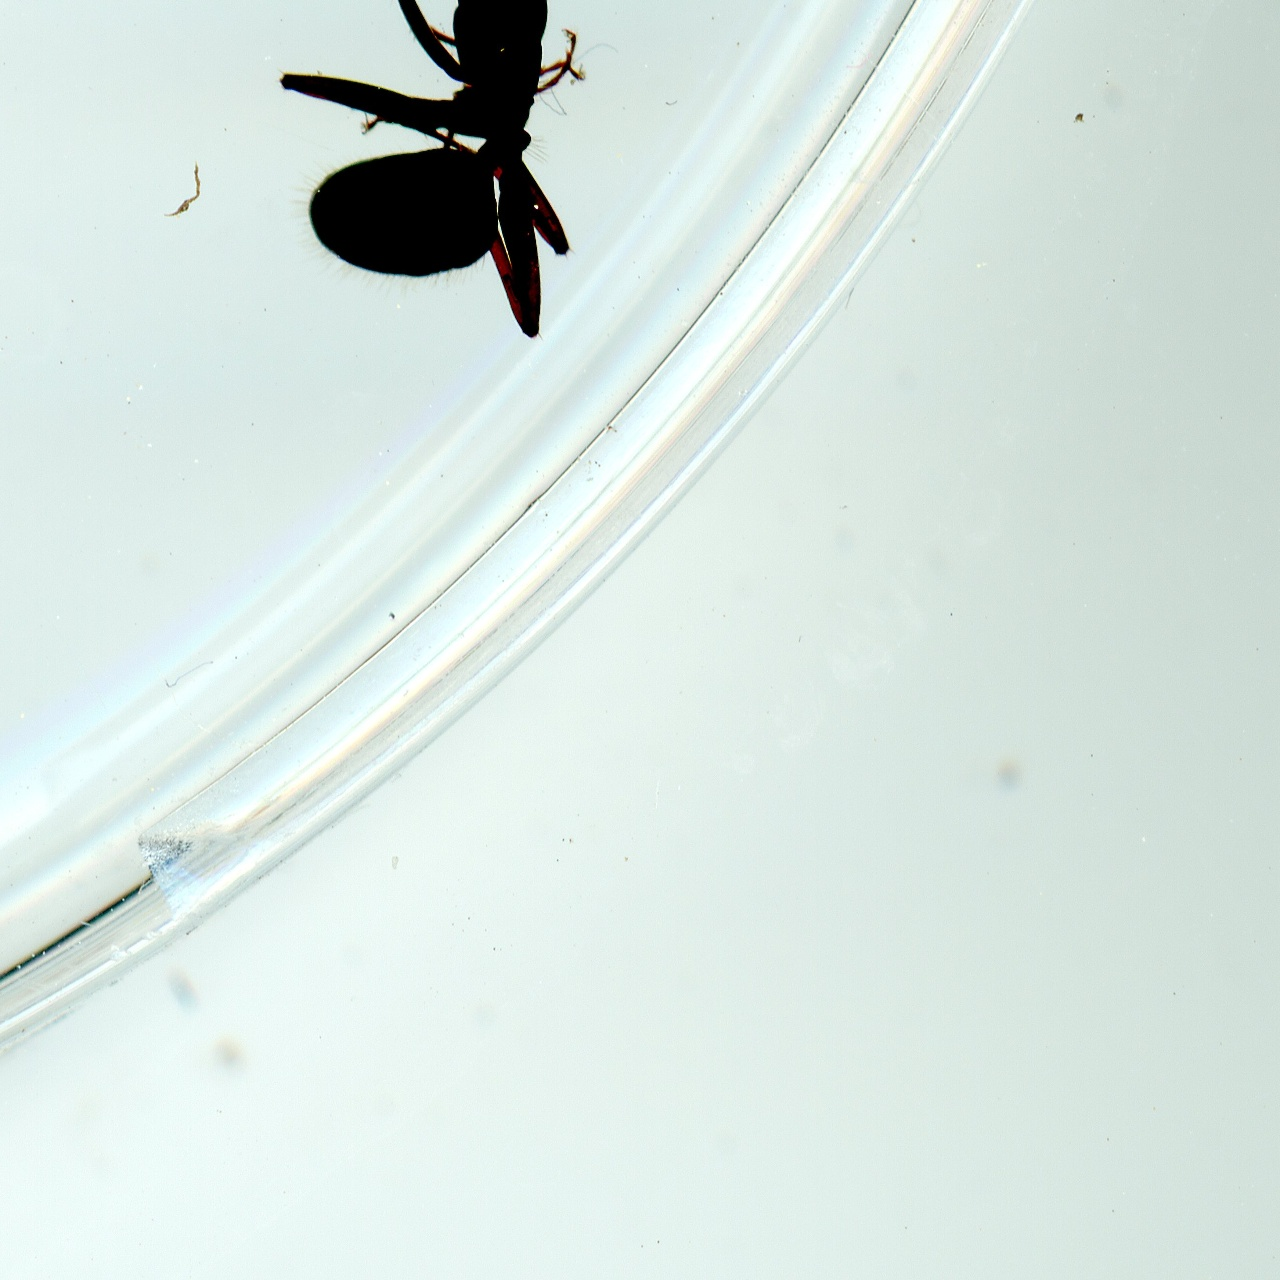arthropod: (213, 0, 607, 363)
